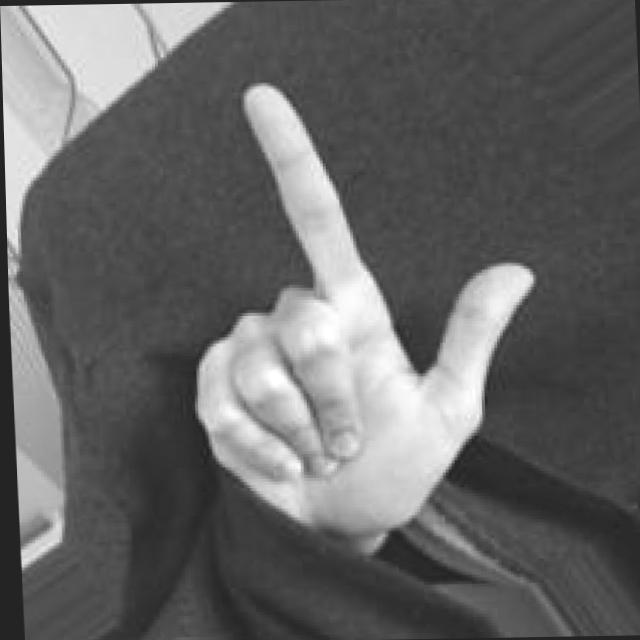L: (176, 74, 554, 552)
